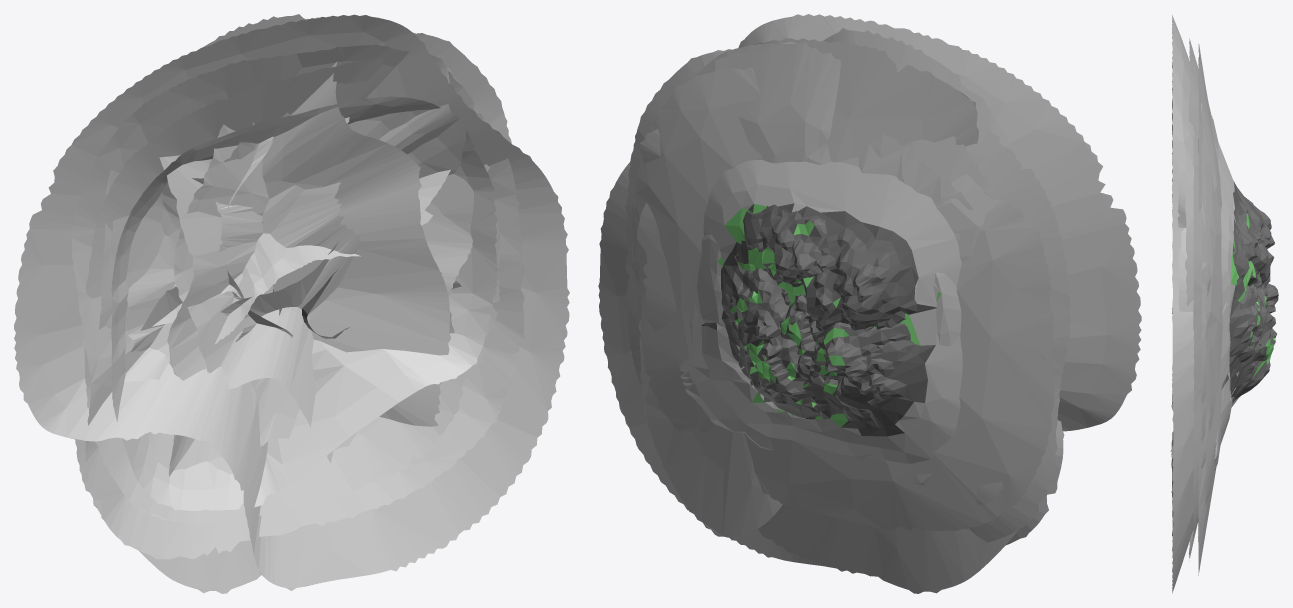
Rendered from Islands 2 LOD 2.fbx.
3 renders of one model, left to right at view 1: azimuth 30°, elevation 25°; view 2: azimuth 150°, elevation 25°; view 3: azimuth 270°, elevation 25°, orthographic. The views are drawn at different scales.
Parts seen in each view (by area): view 1: Island (LOD 2) 14, Island (LOD 2) 10, Island (LOD 2) 07, Island (LOD 2) 16, Island (LOD 2) 11, Island (LOD 2) 02, Island (LOD 2) 21, Island (LOD 2) 13, Island (LOD 2) 09, Island (LOD 2) 19, Island (LOD 2) 18, Island (LOD 2) 17 (+5 smaller); view 2: Island (LOD 2) 20, Island (LOD 2) 12, Island (LOD 2) 14, Island (LOD 2) 02, Island (LOD 2) 07, Island (LOD 2) 17, Island (LOD 2) 21, Island (LOD 2) 08, Island (LOD 2) 05, Island (LOD 2) 04, Island (LOD 2) 15, Island (LOD 2) 19 (+5 smaller); view 3: Island (LOD 2) 14, Island (LOD 2) 20, Island (LOD 2) 12, Island (LOD 2) 08, Island (LOD 2) 17, Island (LOD 2) 21, Island (LOD 2) 05, Island (LOD 2) 02, Island (LOD 2) 11, Island (LOD 2) 10, Island (LOD 2) 07, Island (LOD 2) 16 (+2 smaller).
Part boxes in pixels (x1,y1,x2,y2): Island (LOD 2) 14: (14,14,569,590); Island (LOD 2) 10: (71,44,525,559); Island (LOD 2) 07: (98,14,450,593); Island (LOD 2) 16: (111,96,498,510); Island (LOD 2) 11: (84,58,500,525); Island (LOD 2) 02: (159,16,459,462); Island (LOD 2) 21: (174,124,357,450); Island (LOD 2) 13: (106,79,473,470); Island (LOD 2) 09: (270,112,360,314); Island (LOD 2) 19: (126,117,349,352); Island (LOD 2) 18: (150,210,433,363); Island (LOD 2) 17: (75,32,511,541); Island (LOD 2) 20: (634,67,1054,531); Island (LOD 2) 12: (701,160,962,463); Island (LOD 2) 14: (598,14,1141,576); Island (LOD 2) 02: (638,38,978,537); Island (LOD 2) 07: (757,28,1018,593); Island (LOD 2) 17: (625,49,1070,542); Island (LOD 2) 21: (632,42,840,312); Island (LOD 2) 08: (721,252,820,418); Island (LOD 2) 05: (736,157,993,379); Island (LOD 2) 04: (679,144,972,485); Island (LOD 2) 15: (637,203,1003,504); Island (LOD 2) 19: (859,136,989,188); Island (LOD 2) 14: (1171,15,1261,593); Island (LOD 2) 20: (1205,149,1278,505); Island (LOD 2) 12: (1217,142,1274,444); Island (LOD 2) 08: (1229,285,1276,406); Island (LOD 2) 17: (1193,120,1236,537); Island (LOD 2) 21: (1201,93,1221,468); Island (LOD 2) 05: (1216,151,1270,301); Island (LOD 2) 02: (1198,44,1218,575); Island (LOD 2) 11: (1185,165,1266,307); Island (LOD 2) 10: (1177,162,1254,311); Island (LOD 2) 07: (1188,38,1215,558); Island (LOD 2) 16: (1170,228,1230,458).
Bounding box in the file's own units: 446 × 441 × 89.49.
